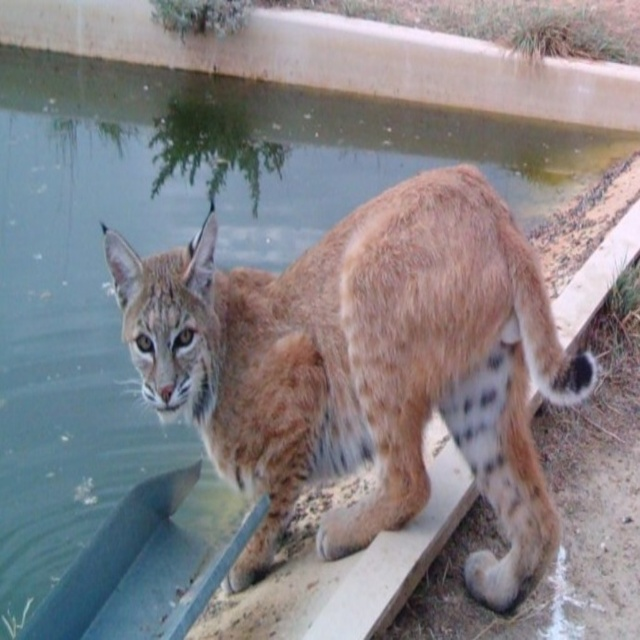Lynx: (98, 159, 604, 615)
